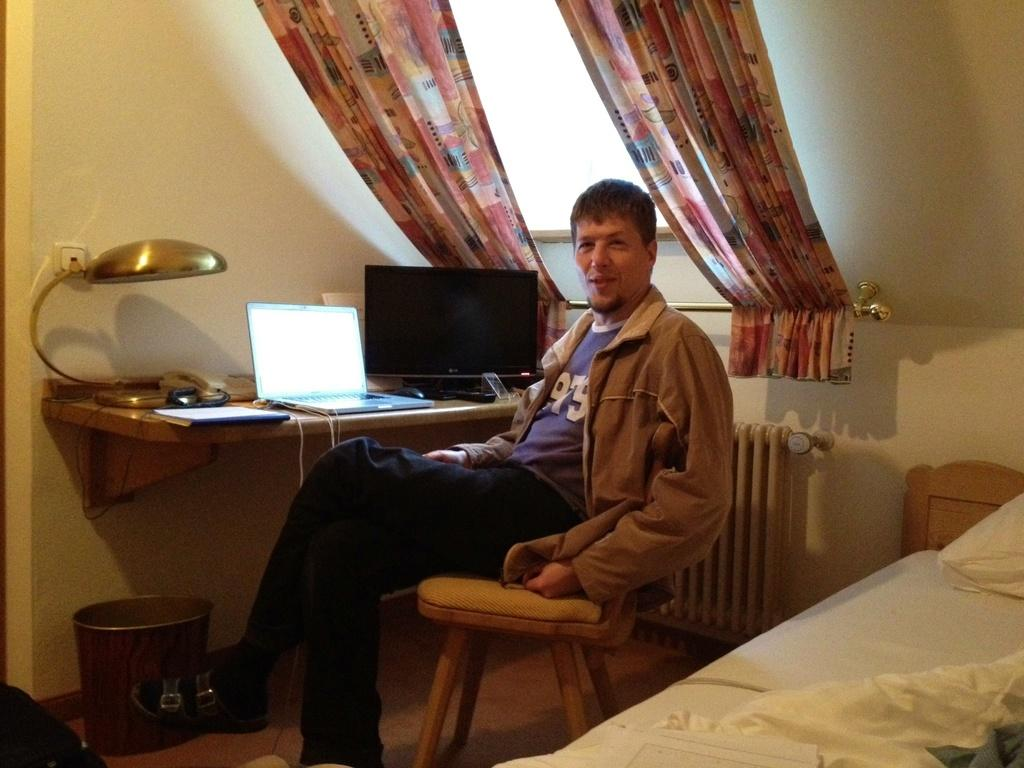Computer-monitor: (361, 260, 542, 400)
Laptop: (244, 300, 434, 416)
